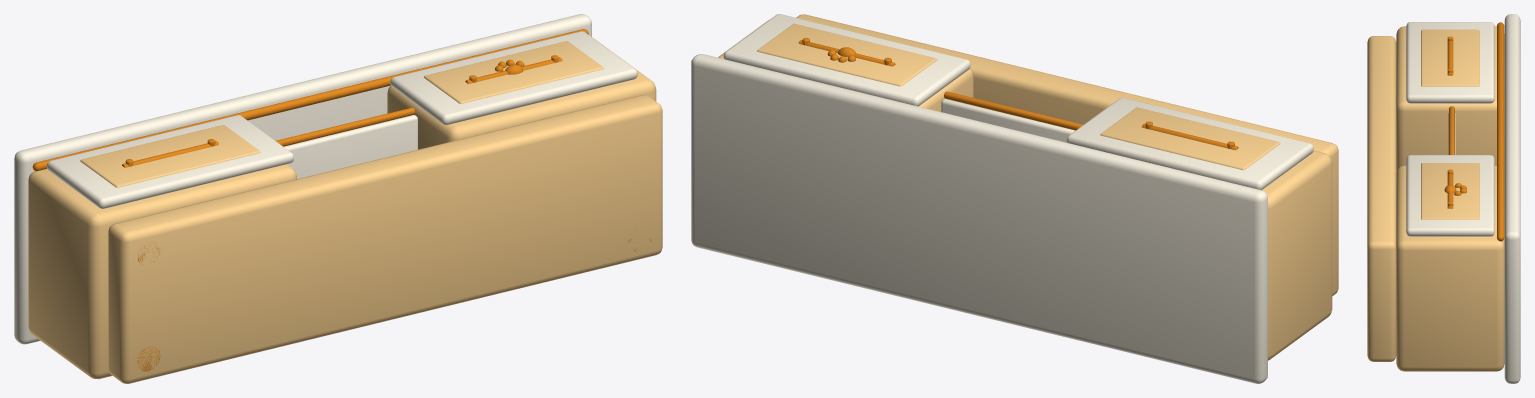
File: TvUnit_Premium.fbx
3 views of the same model, side by side, from view 1: azimuth 30°, elevation 25°; view 2: azimuth 150°, elevation 25°; view 3: azimuth 270°, elevation 25° (orthographic). The views are drawn at different scales.
Parts seen in each view (by area): view 1: TvUnit; view 2: TvUnit; view 3: TvUnit.
Part boxes in pixels (x1,y1,x2,y2): TvUnit: [14, 14, 662, 383]; TvUnit: [691, 14, 1338, 383]; TvUnit: [1367, 14, 1520, 383].
Size of the model in its own units: 1.82 by 0.595 by 0.53.
